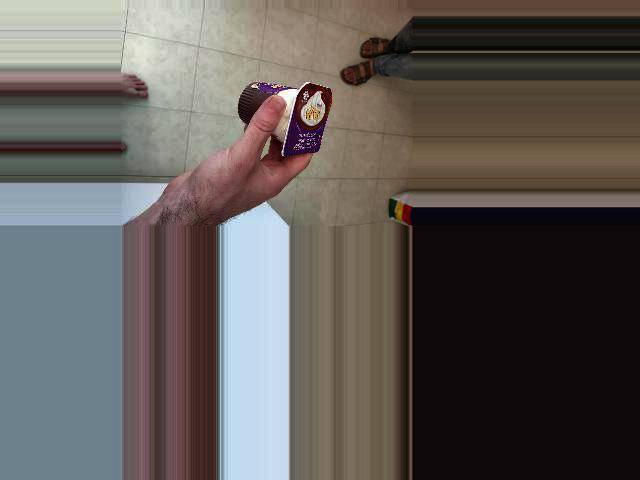milky: (226, 86, 341, 156)
